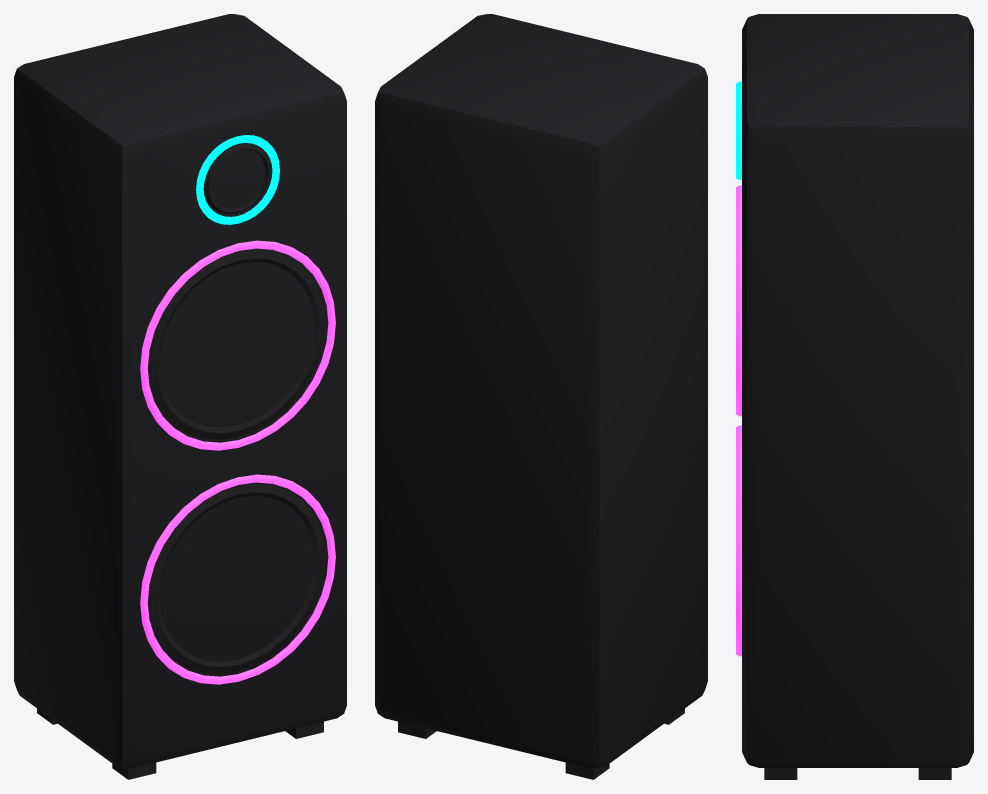
The model's file is KIT_Caixa_Som.glb.
The picture shows the model from 3 angles, left to right: view 1: azimuth 30°, elevation 25°; view 2: azimuth 150°, elevation 25°; view 3: azimuth 270°, elevation 25°; orthographic projection. The views are drawn at different scales.
Visible parts, largest first — view 1: KIT_Caixa_Som; view 2: KIT_Caixa_Som; view 3: KIT_Caixa_Som.
Part boxes in pixels (<box>): KIT_Caixa_Som: <box>14,14,346,779</box>; KIT_Caixa_Som: <box>375,14,707,779</box>; KIT_Caixa_Som: <box>736,14,973,779</box>.
Bounding box in the file's own units: 0.5 × 1.33 × 0.4309.
